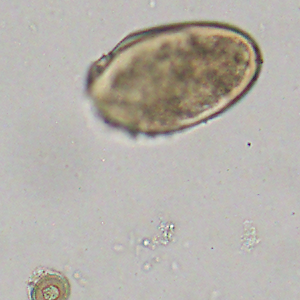Fasciola_hepatica_egg: (84, 20, 262, 139)
